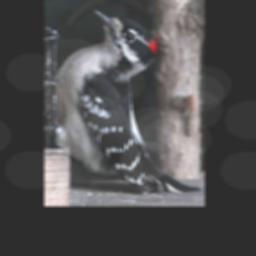Woodpecker: (49, 9, 202, 194)
